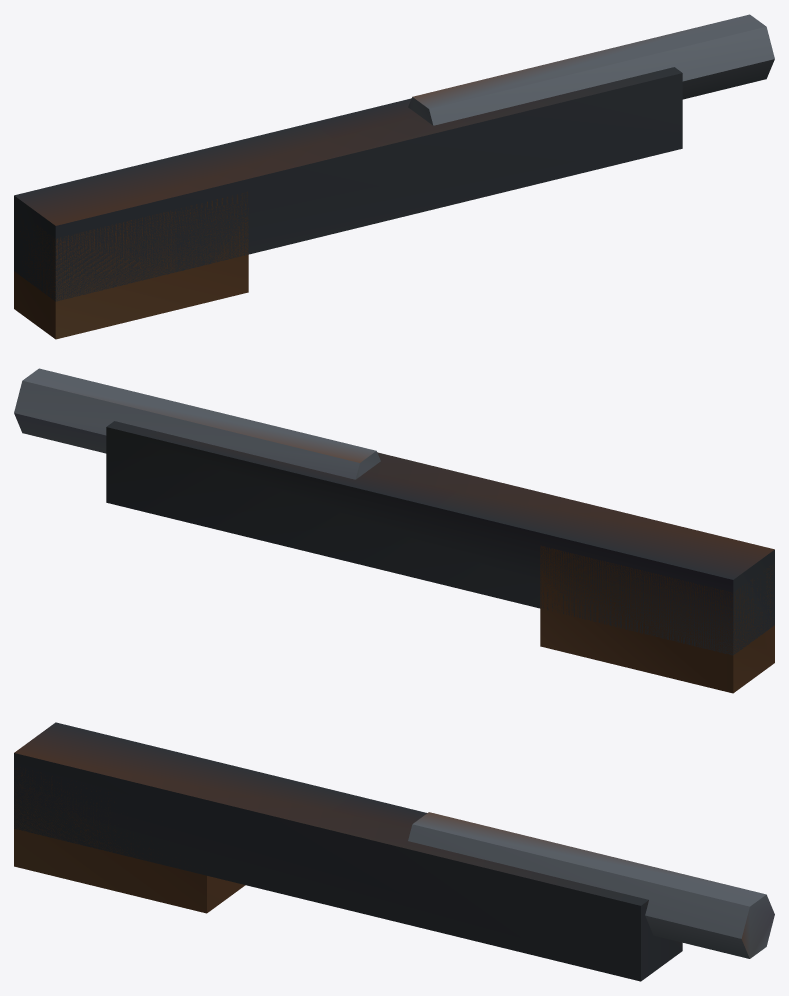
File: weapon_shotgun.glb
3 renders of one model, top to bottom at view 1: azimuth 30°, elevation 25°; view 2: azimuth 150°, elevation 25°; view 3: azimuth 330°, elevation 25°, orthographic.
Visible parts, largest first — view 1: weapon_shotgun; view 2: weapon_shotgun; view 3: weapon_shotgun.
Boxes of the visible parts, x1,y1,x2,y2 form: weapon_shotgun: [14, 14, 774, 339]; weapon_shotgun: [14, 368, 774, 693]; weapon_shotgun: [14, 722, 774, 981].
Bounding box in the file's own units: 30 × 5.04 × 3.
